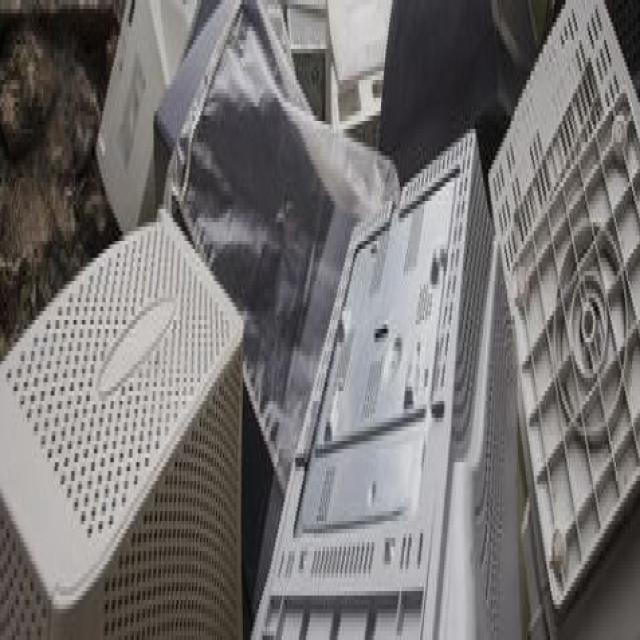electronic: (3, 124, 252, 640), (299, 89, 519, 640)
